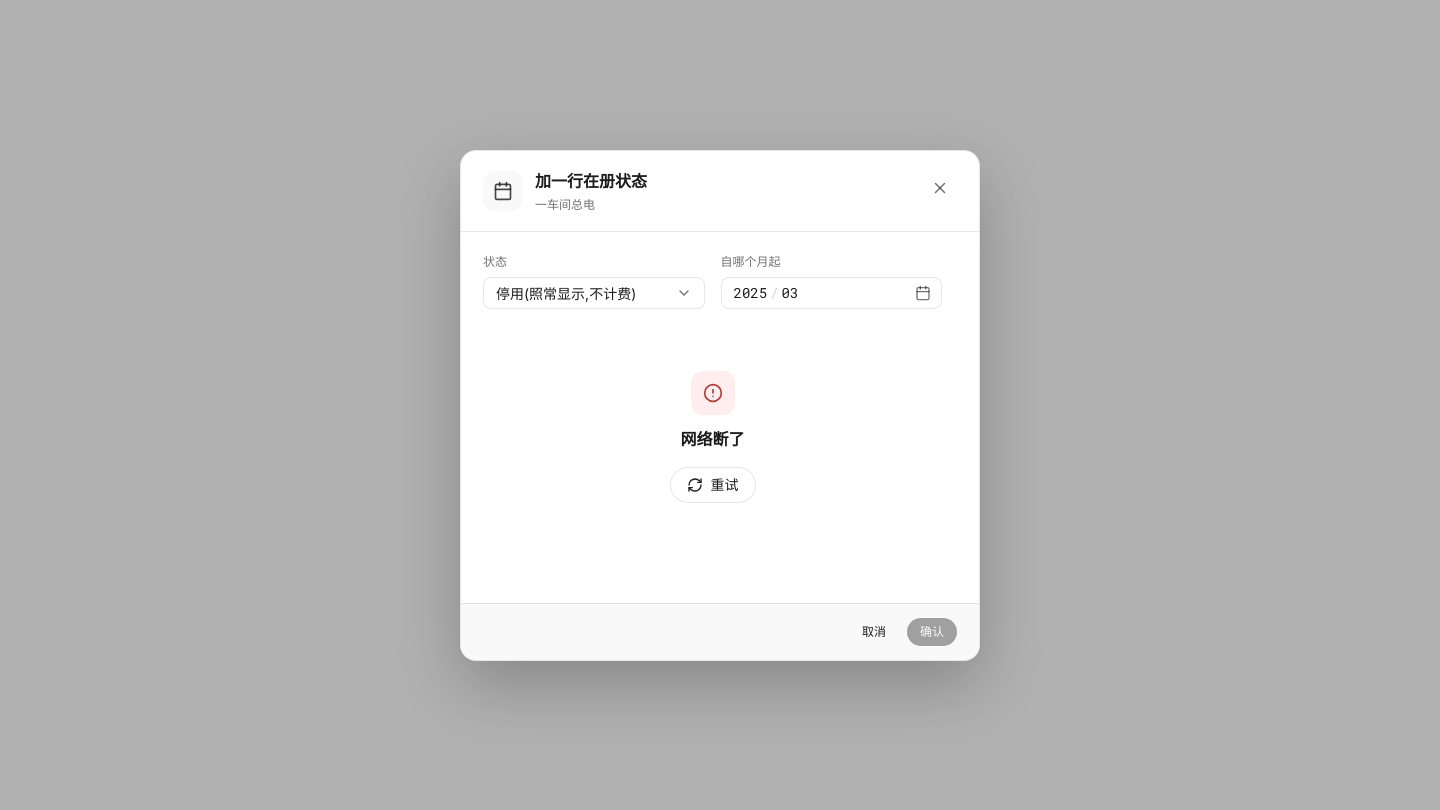
Scenario: T18 · 在册状态弹框:影响范围没算出来 = 加载失败(十件 ⑦) › 失败换掉影响那一块、带「重试」,确认灰着;重试成功出影响句,不再是字段报错那一行
Check: the message with class "error" shows "网络断了", box [680,428,744,448]
Check: the button "确认" is disabled, box [907,618,957,646]
Click the button "重试". click: [712, 484]
box: [670,466,756,502]
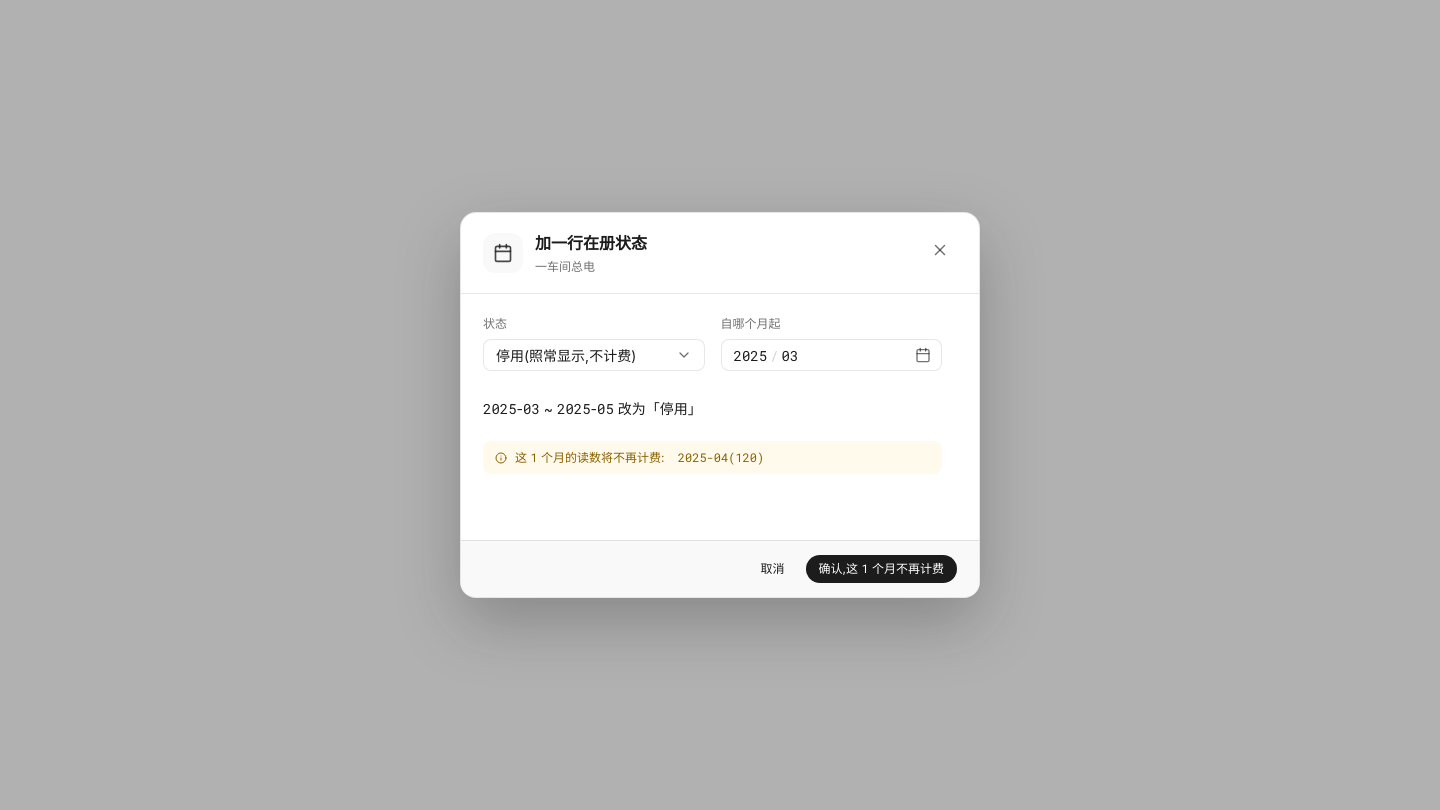
Check: the element with class "warn" shows "这 1 个月的读数将不再计费", box [515,450,668,465]
Check: the button "确认,这 1 个月不再计费" is enabled, box [806,555,957,583]
